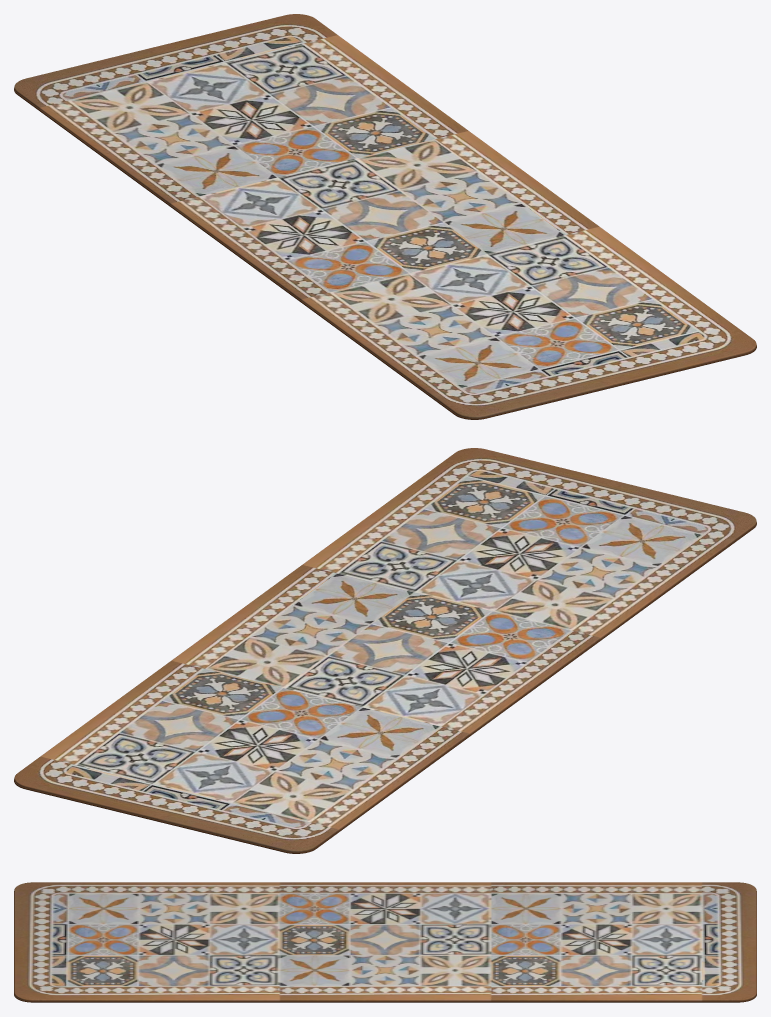
The model's file is homecloud_mat.glb.
3 views of the same model, one above another, from view 1: azimuth 30°, elevation 25°; view 2: azimuth 150°, elevation 25°; view 3: azimuth 270°, elevation 25° (orthographic). The views are drawn at different scales.
Parts seen in each view (by area): view 1: HomeCloud Kitchen Floor Runner; view 2: HomeCloud Kitchen Floor Runner; view 3: HomeCloud Kitchen Floor Runner.
Part boxes in pixels (x1,y1,x2,y2): HomeCloud Kitchen Floor Runner: (14,14,756,419); HomeCloud Kitchen Floor Runner: (14,448,756,853); HomeCloud Kitchen Floor Runner: (14,882,756,1002).
Bounding box in the file's own units: 0.45 × 0.005 × 1.2.
2 materials, 1 textured.
